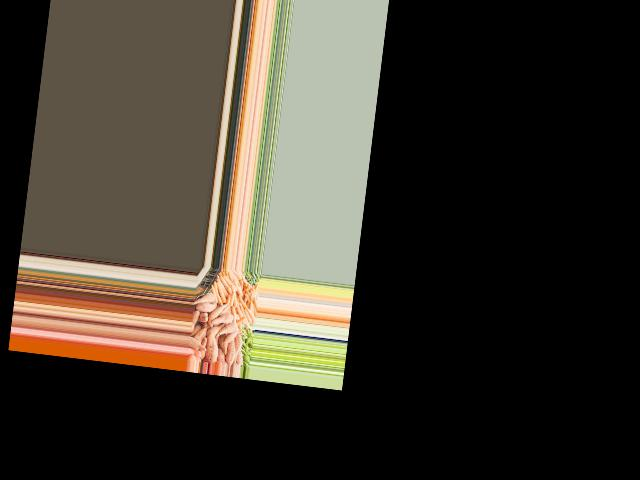carrot: (214, 281, 227, 304)
